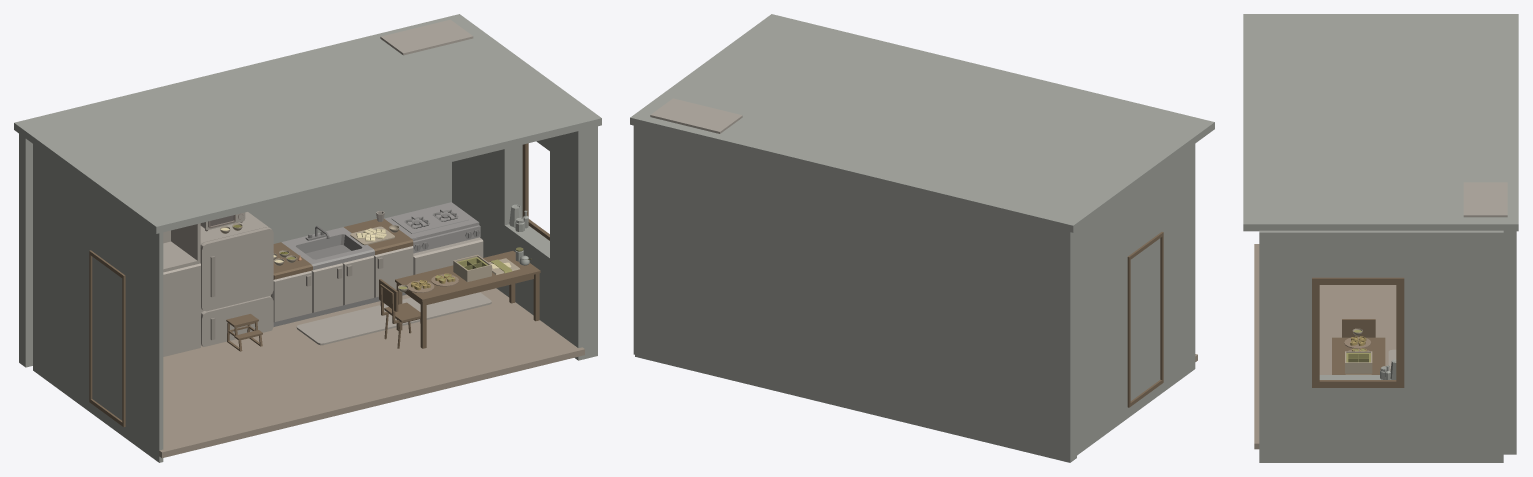
File: homekitchen1.fbx
3 renders of one model, left to right at view 1: azimuth 30°, elevation 25°; view 2: azimuth 150°, elevation 25°; view 3: azimuth 270°, elevation 25°, orthographic. The views are drawn at different scales.
Visible parts, largest first — view 1: pPlane199, pPlane197, pPlane340, pPlane198, pPlane196, pCube461, pCube480, pCube450, pCube498, polySurface358, pCube479, pCube443 (+10 smaller); view 2: pPlane196, pPlane199, pPlane340, pCube443, pPlane378; view 3: pPlane199, pPlane198, pPlane197, pPlane196, pPlane377, pCube443, polySurface358, polySurface80, polySurface517.
Part boxes in pixels (x1=…): pPlane199: x1=14, y1=14, x2=601, y2=233; pPlane197: x1=159, y1=288, x2=584, y2=458; pPlane340: x1=33, y1=144, x2=163, y2=462; pPlane198: x1=452, y1=126, x2=597, y2=360; pPlane196: x1=19, y1=134, x2=451, y2=367; pCube461: x1=271, y1=219, x2=413, y2=322; pCube480: x1=200, y1=227, x2=273, y2=311; pCube450: x1=163, y1=223, x2=200, y2=356; pCube498: x1=296, y1=292, x2=491, y2=345; polySurface358: x1=395, y1=251, x2=540, y2=304; pCube479: x1=201, y1=296, x2=273, y2=346; pCube443: x1=380, y1=19, x2=473, y2=55; pPlane196: x1=635, y1=126, x2=1076, y2=462; pPlane199: x1=630, y1=14, x2=1214, y2=232; pPlane340: x1=1077, y1=144, x2=1195, y2=455; pCube443: x1=650, y1=98, x2=742, y2=133; pPlane378: x1=1127, y1=232, x2=1163, y2=407; pPlane199: x1=1243, y1=14, x2=1518, y2=231; pPlane198: x1=1259, y1=230, x2=1503, y2=462; pPlane197: x1=1254, y1=244, x2=1396, y2=449; pPlane196: x1=1503, y1=231, x2=1516, y2=454; pPlane377: x1=1312, y1=277, x2=1404, y2=387; pCube443: x1=1463, y1=182, x2=1507, y2=217; polySurface358: x1=1332, y1=337, x2=1385, y2=374; polySurface80: x1=1342, y1=319, x2=1375, y2=337; polySurface517: x1=1345, y1=351, x2=1372, y2=373.
Bounding box in the file's own units: 8.83 × 4.62 × 4.82.
